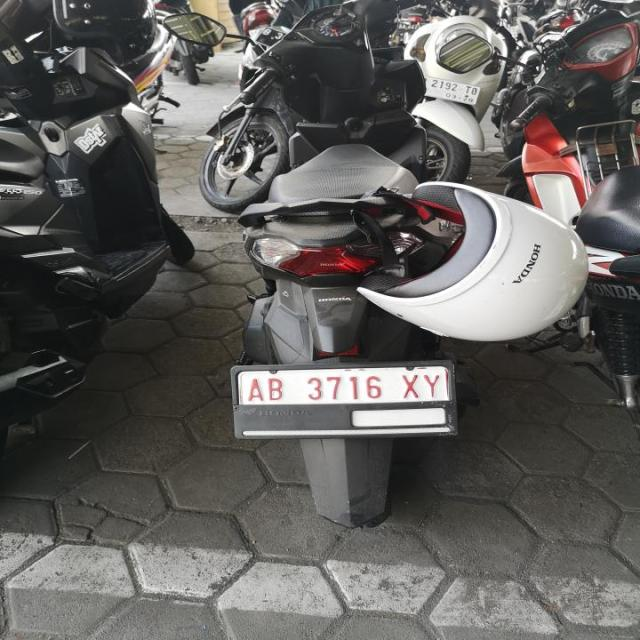License Plate: (226, 361, 464, 439), (423, 76, 482, 105)
